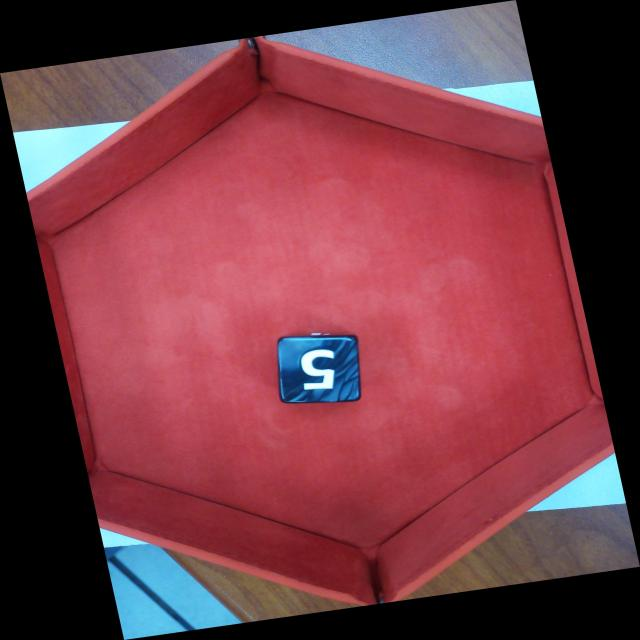dice: (275, 337, 360, 401)
